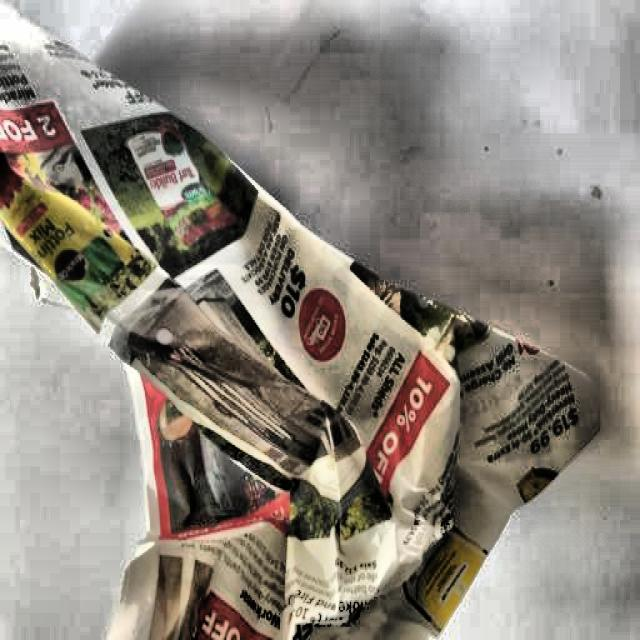paper: (0, 10, 581, 639)
